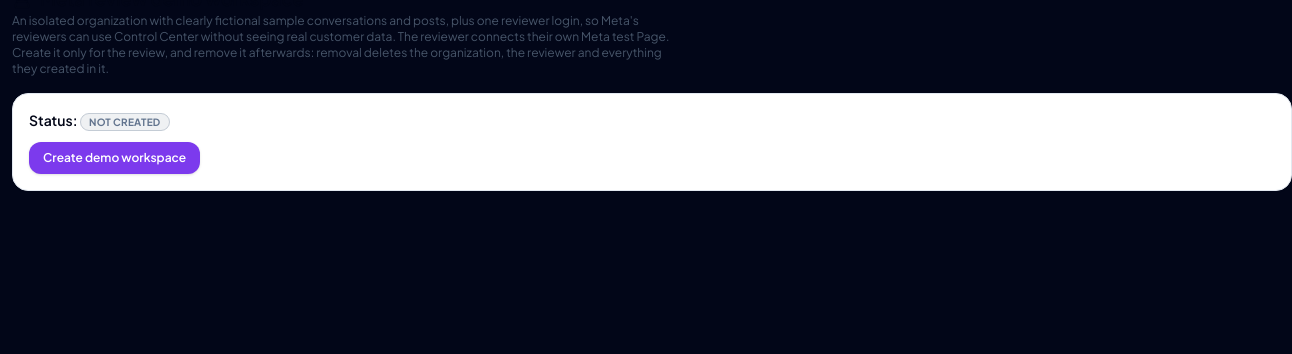
Test case: MetaReviewPage › creates the workspace and shows the password once
Click the button "Create demo workspace" at [115, 158], box [29,142,200,174]
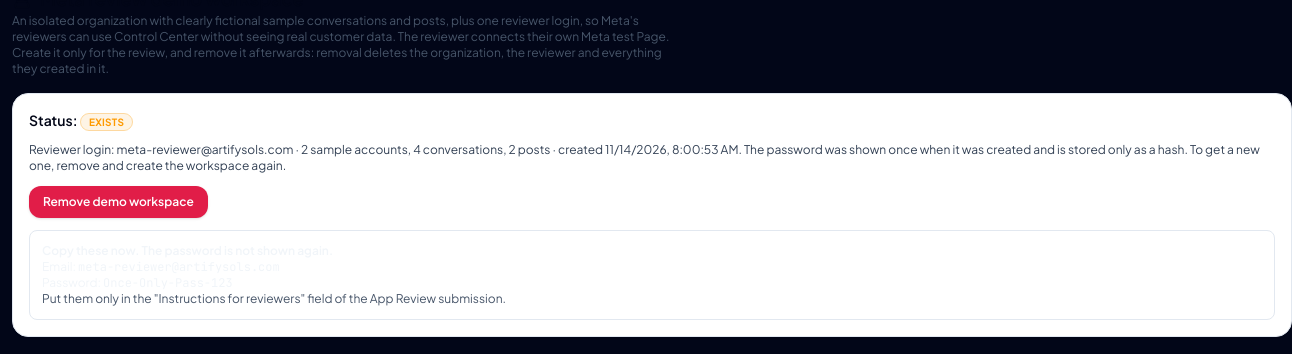
Check: the text "stored only as a hash" is shown, box [29,142,1260,173]
